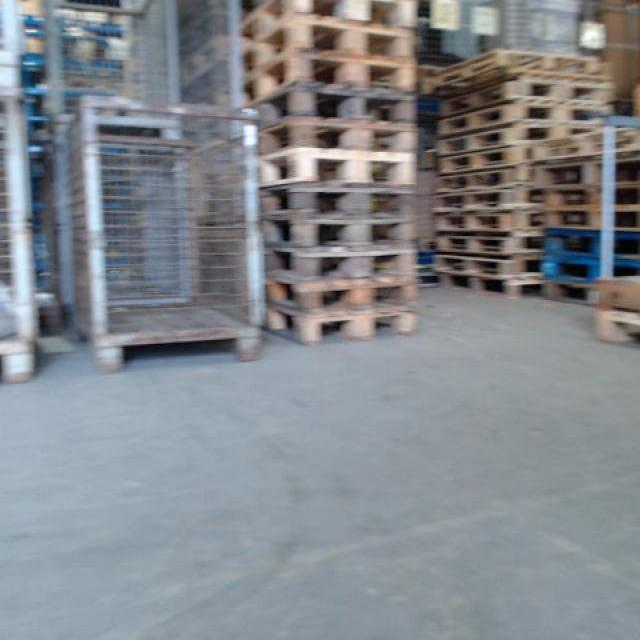pallet: (248, 83, 418, 158), (435, 83, 611, 139), (246, 4, 417, 58), (260, 299, 418, 345), (238, 59, 416, 89), (263, 221, 420, 254), (437, 51, 603, 81), (438, 125, 608, 154), (544, 254, 639, 305), (262, 154, 416, 185), (261, 191, 418, 218), (264, 253, 418, 279), (264, 282, 420, 307), (538, 152, 637, 187), (438, 147, 540, 175), (436, 277, 544, 299), (429, 189, 536, 211), (545, 229, 639, 254), (435, 210, 542, 231), (592, 304, 640, 350), (434, 169, 532, 191), (435, 251, 531, 272), (545, 208, 637, 229), (538, 187, 638, 205), (440, 233, 541, 250)
stillage: (70, 96, 263, 370), (54, 133, 206, 322), (41, 3, 243, 115), (2, 92, 54, 392)
